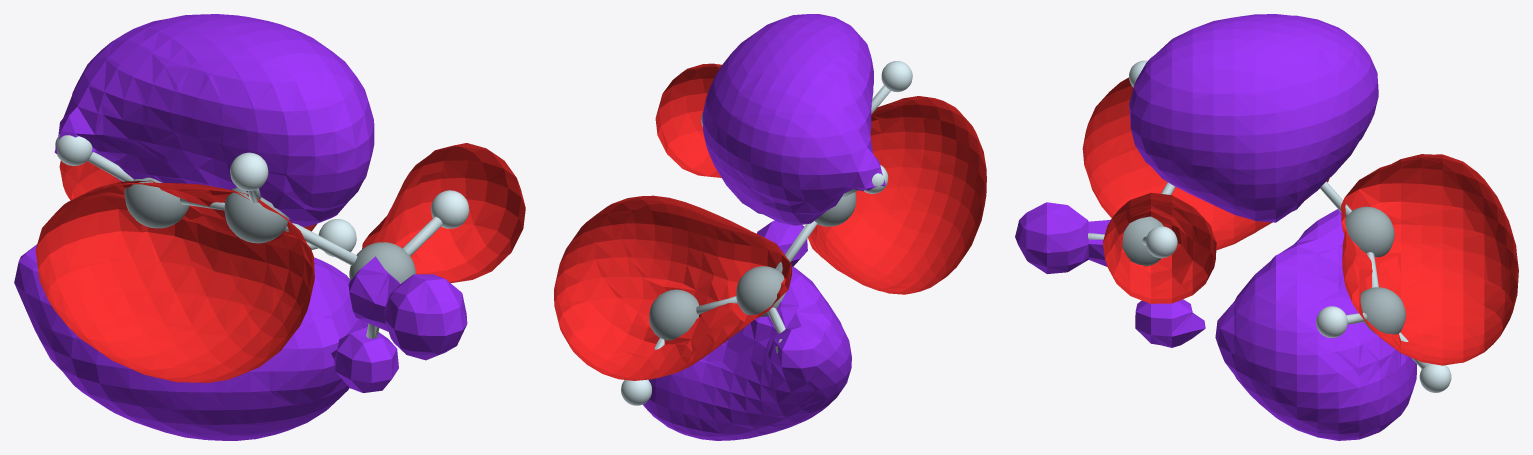
3 views of the same model, side by side, from view 1: azimuth 30°, elevation 25°; view 2: azimuth 150°, elevation 25°; view 3: azimuth 270°, elevation 25° (orthographic). The views are drawn at different scales.
Parts seen in each view (by area): view 1: Renderer Node; view 2: Renderer Node; view 3: Renderer Node.
Part boxes in pixels (x1,y1,x2,y2): Renderer Node: [14, 14, 525, 440]; Renderer Node: [554, 14, 986, 440]; Renderer Node: [1015, 14, 1518, 440].
Bounding box in the file's own units: 4.97 × 5.26 × 6.31.
